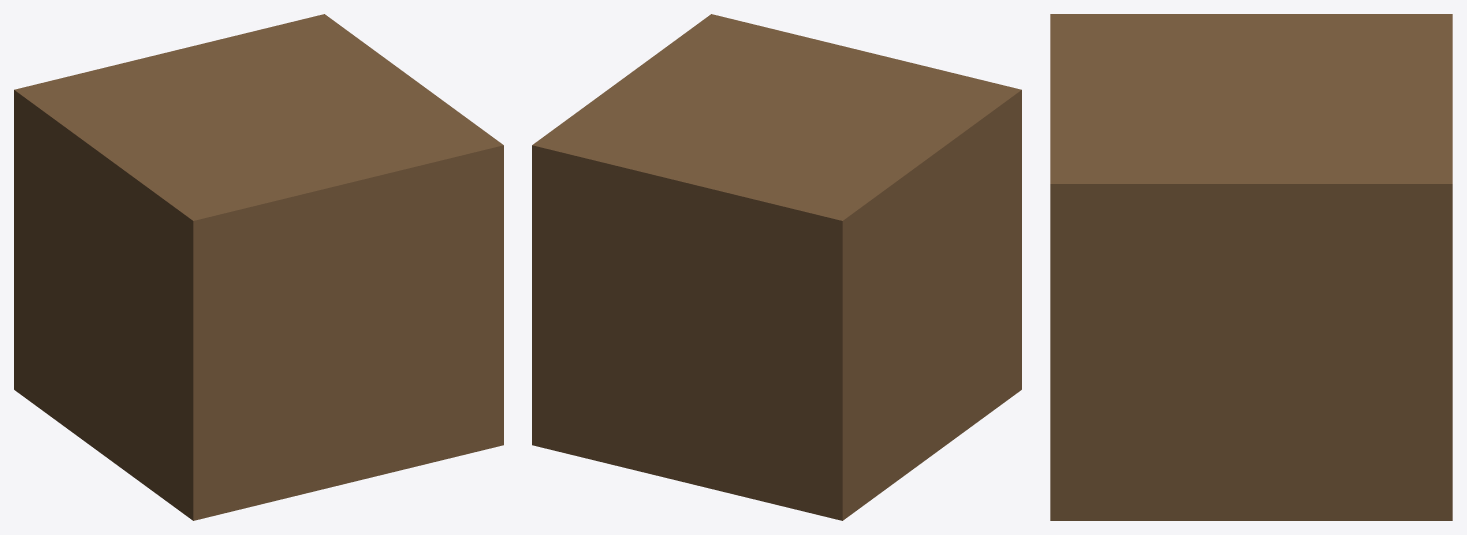
The model's file is crate-closed.glb.
3 renders of one model, left to right at view 1: azimuth 30°, elevation 25°; view 2: azimuth 150°, elevation 25°; view 3: azimuth 270°, elevation 25°, orthographic. The views are drawn at different scales.
Parts seen in each view (by area): view 1: crate-closed; view 2: crate-closed; view 3: crate-closed.
Part boxes in pixels (left/top/right/bottom): crate-closed: left=14, top=14, right=503, bottom=520; crate-closed: left=532, top=14, right=1021, bottom=520; crate-closed: left=1050, top=14, right=1452, bottom=520.
Size of the model in its own units: 0.65 by 0.6 by 0.65.
